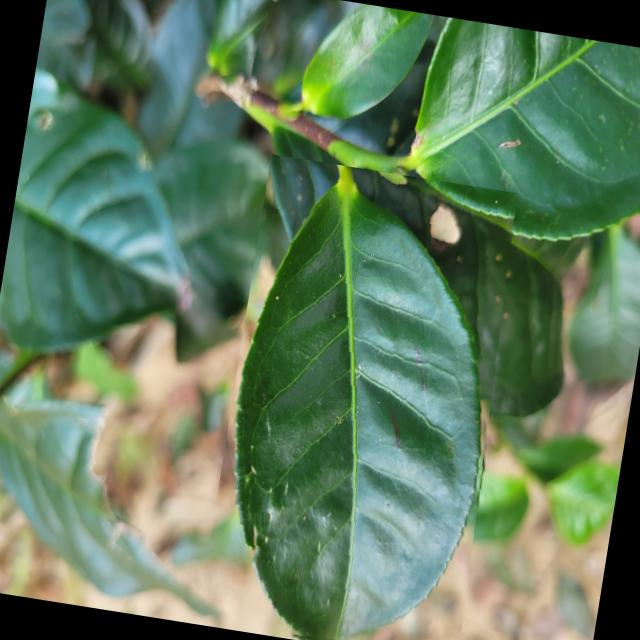Category D(7+ days, Not for Tea): (197, 153, 531, 640)
